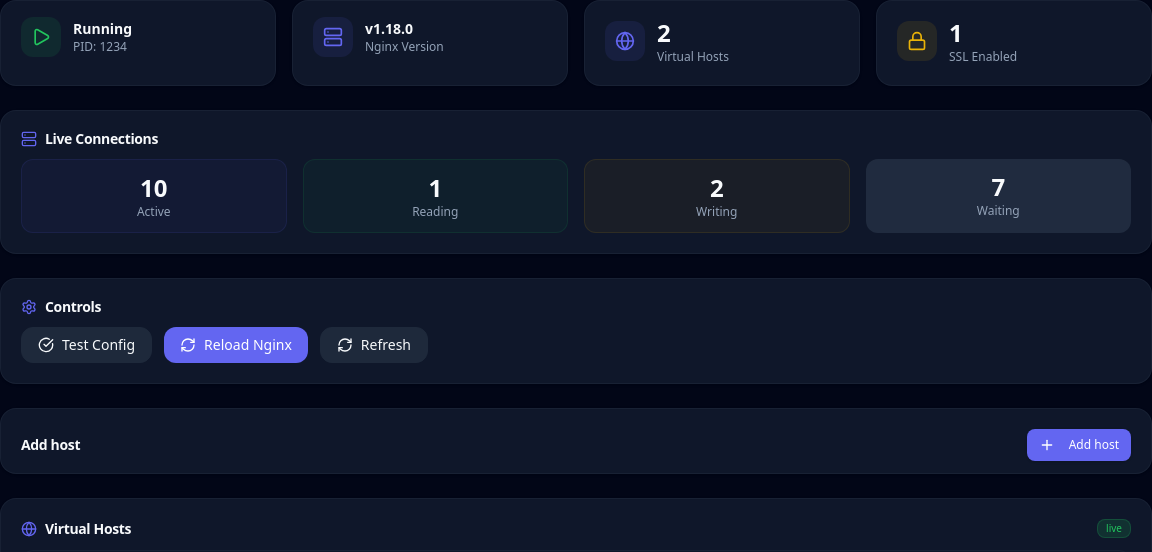
Scenario: NginxPage › performs reload successfully
The image size is (1152, 552).
Click the button "Reload Nginx".
click(236, 345)  # box [164,327,308,363]
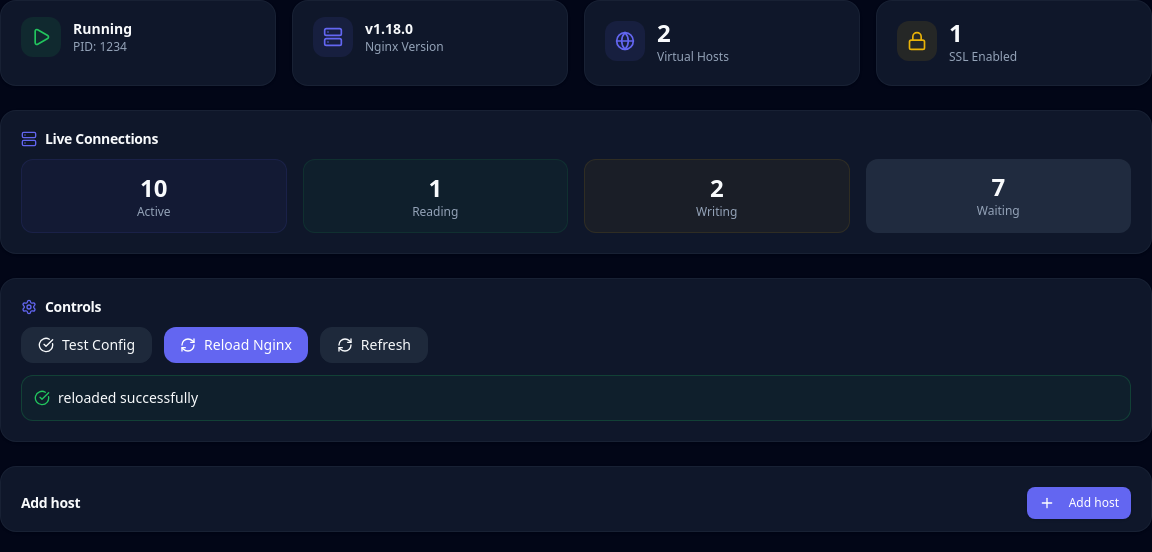
Expected: the text "reloaded successfully" is shown, [58,388,198,408]
